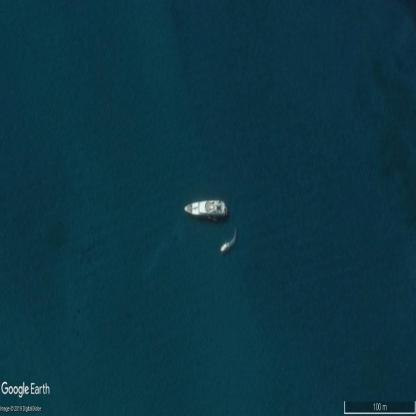ship: (184, 200, 225, 218), (221, 244, 227, 251)
